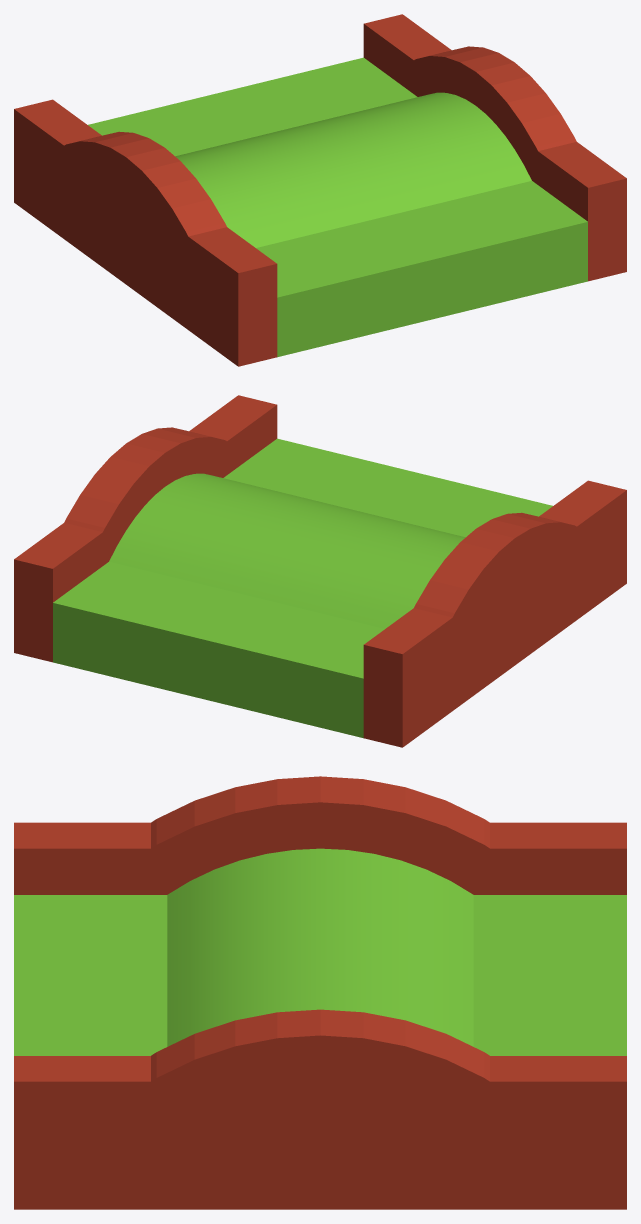
File: Hill_Round.FBX
3 views of the same model, one above another, from view 1: azimuth 30°, elevation 25°; view 2: azimuth 150°, elevation 25°; view 3: azimuth 270°, elevation 25° (orthographic). The views are drawn at different scales.
Visible parts, largest first — view 1: Hill_round_01, Walls; view 2: Hill_round_01, Walls; view 3: Walls, Hill_round_01.
Part boxes in pixels (x1,y1,x2,y2): Hill_round_01: (88,57,587,357); Walls: (14,14,626,366); Hill_round_01: (53,438,552,738); Walls: (14,395,626,747); Walls: (14,776,626,1209); Hill_round_01: (14,848,626,1055).
Size of the model in its own units: 0.9999 by 0.9999 by 0.3133.
